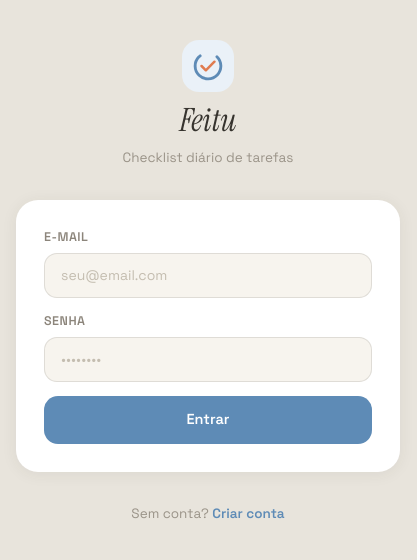
Test: LoginPage › exibe erro em caso de falha no login
Type "a@test.com" into the field with placeholder "seu@email.com".
click(208, 276); type("a@test.com")  # box [44, 253, 372, 298]
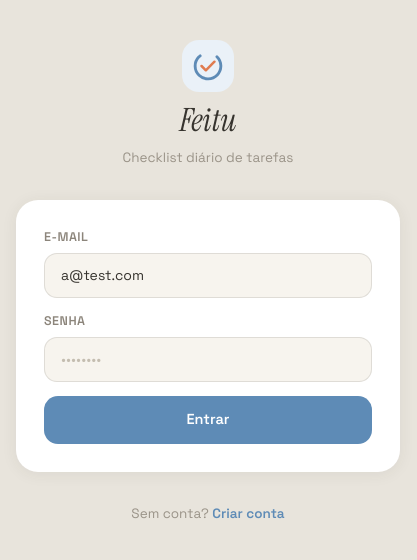
Type "senha1234" into the password field with placeholder "••••••••".
click(208, 359); type("senha1234")  # box [44, 337, 372, 382]
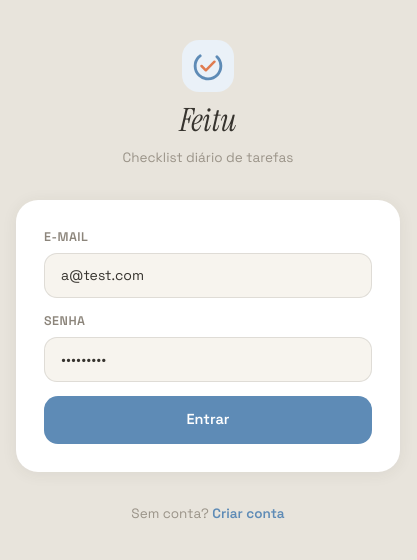
Submit the form, box [44, 228, 372, 444]
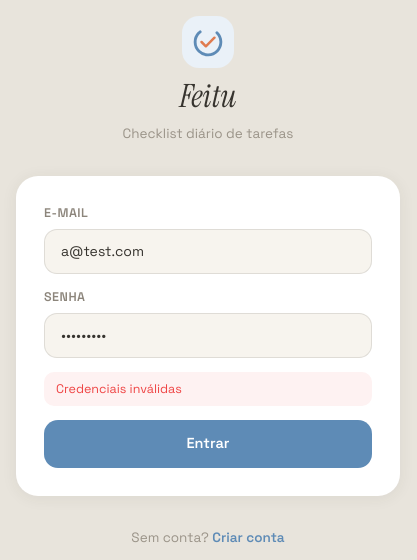
Now the text "Credenciais inválidas" is shown, box [44, 372, 372, 406]
